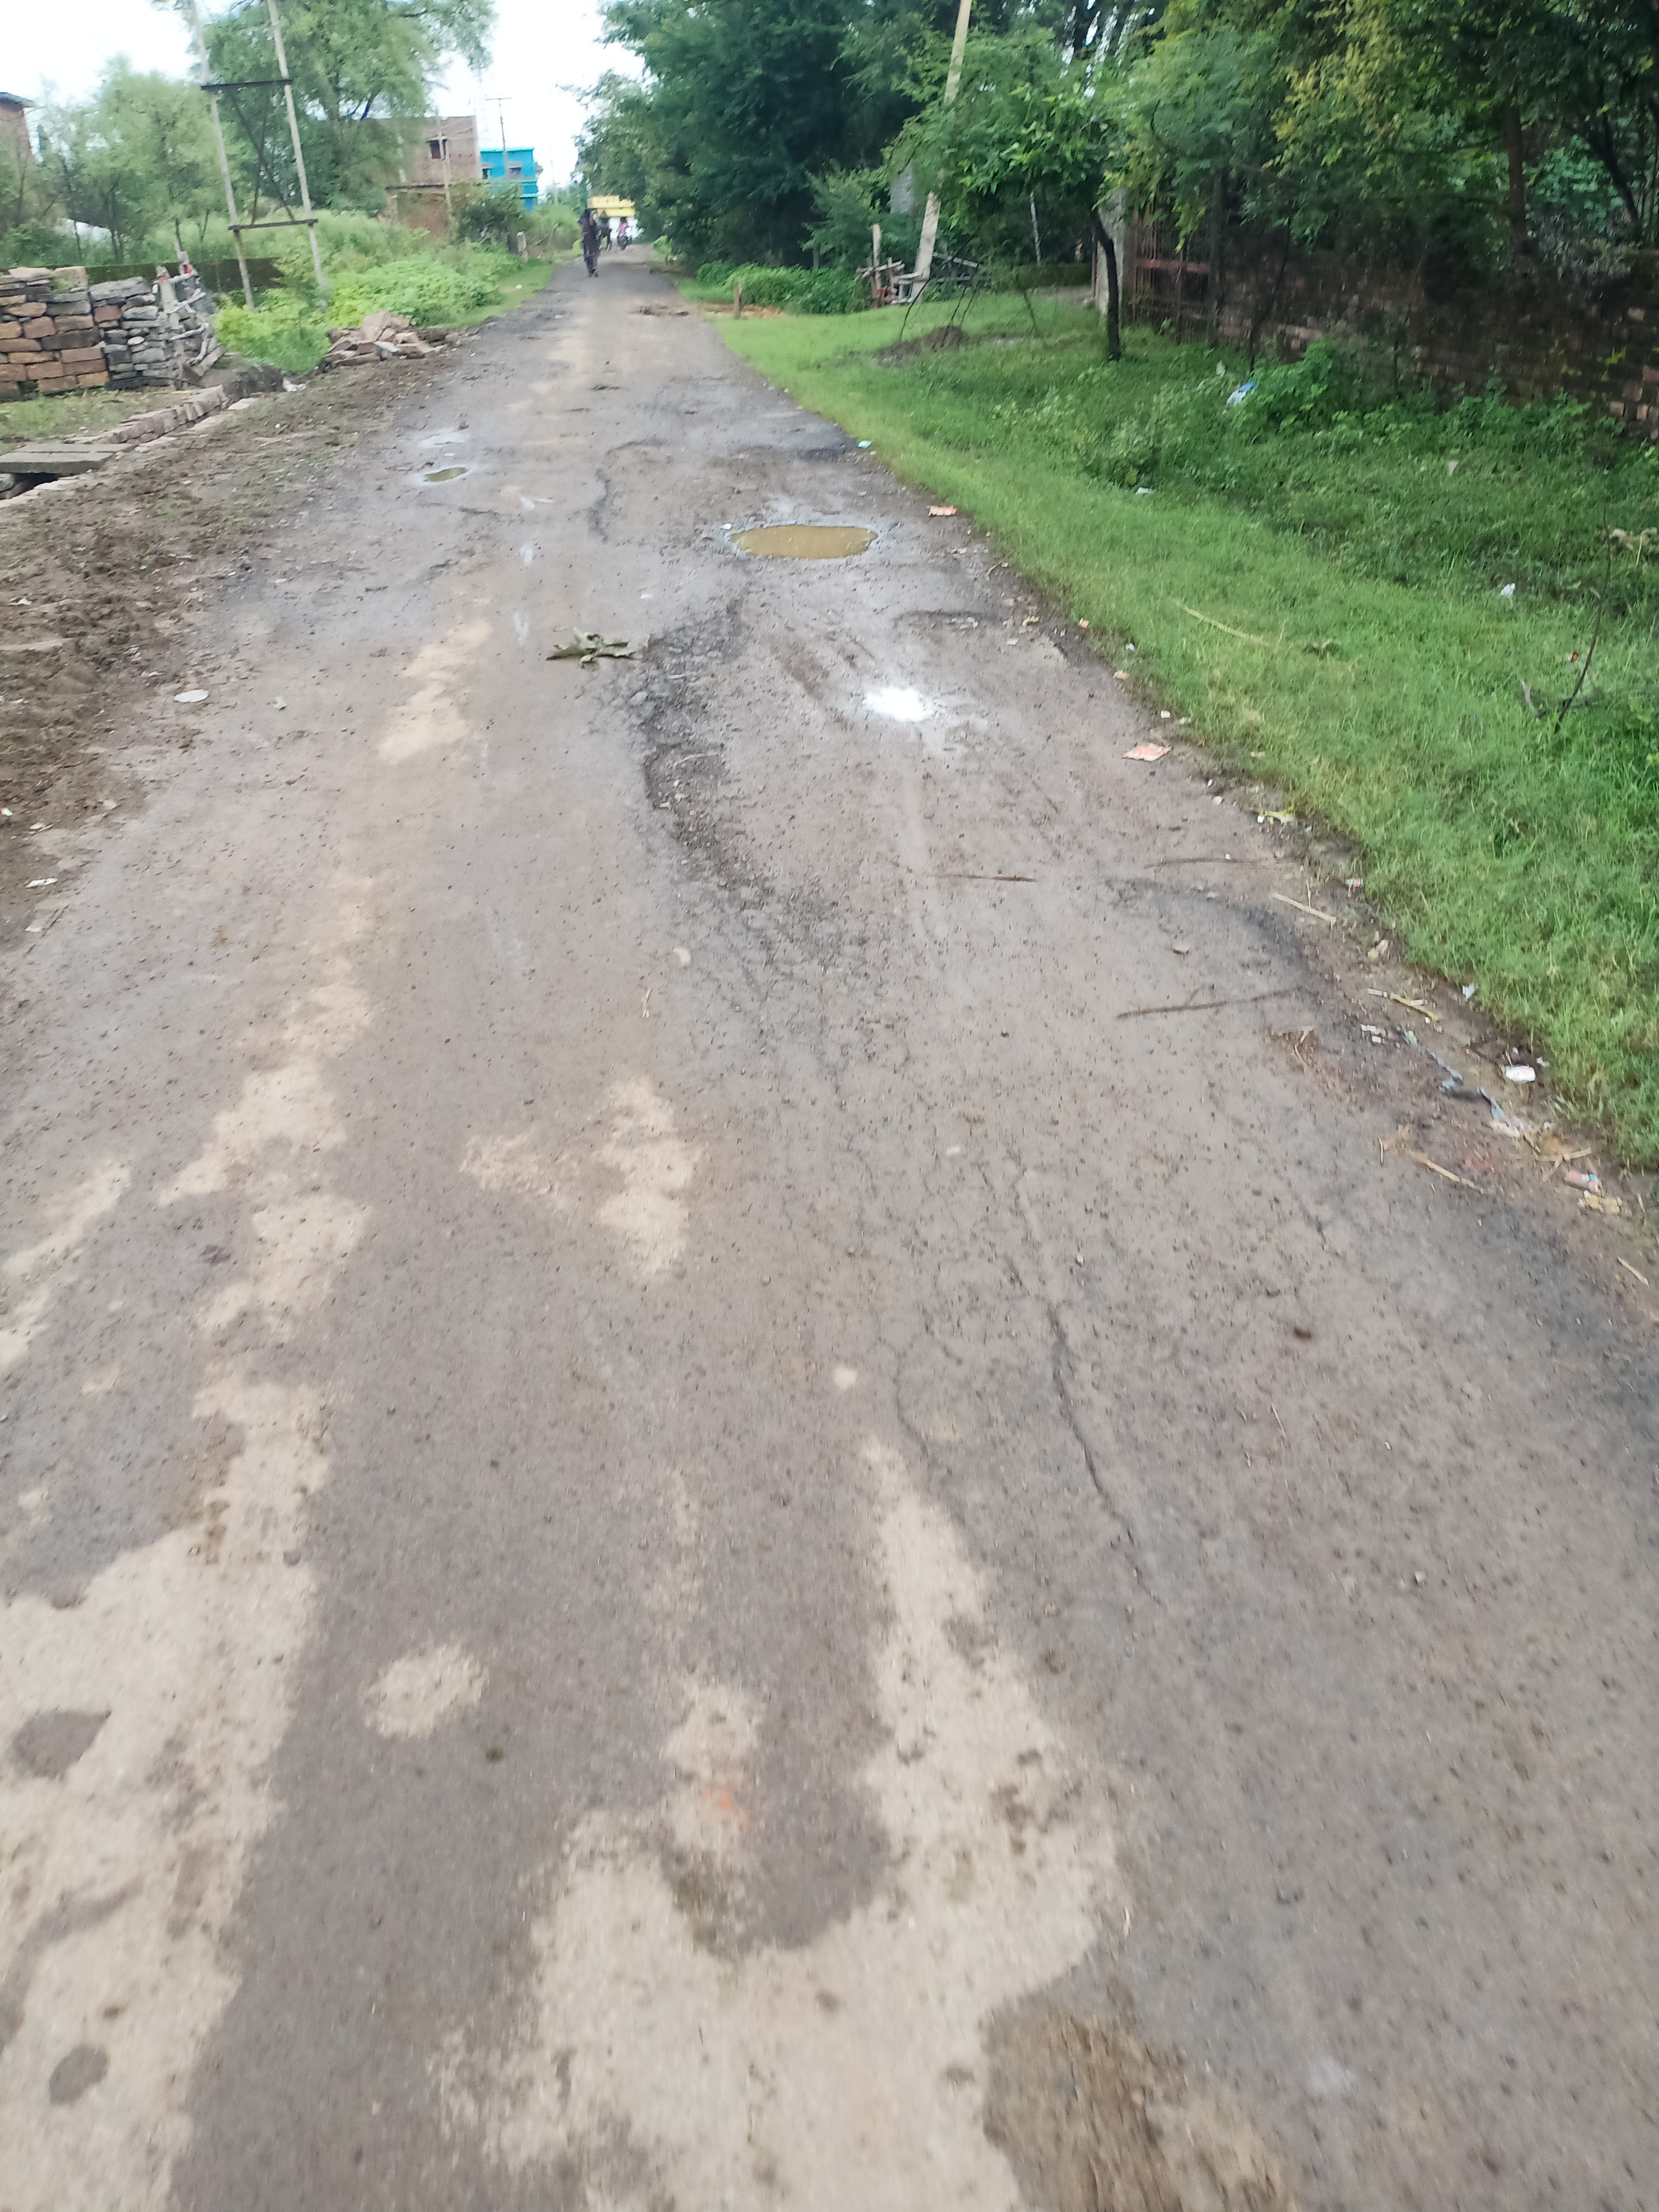potholes: (864, 596, 1030, 768), (687, 507, 892, 583), (429, 411, 488, 493), (626, 287, 697, 336)
